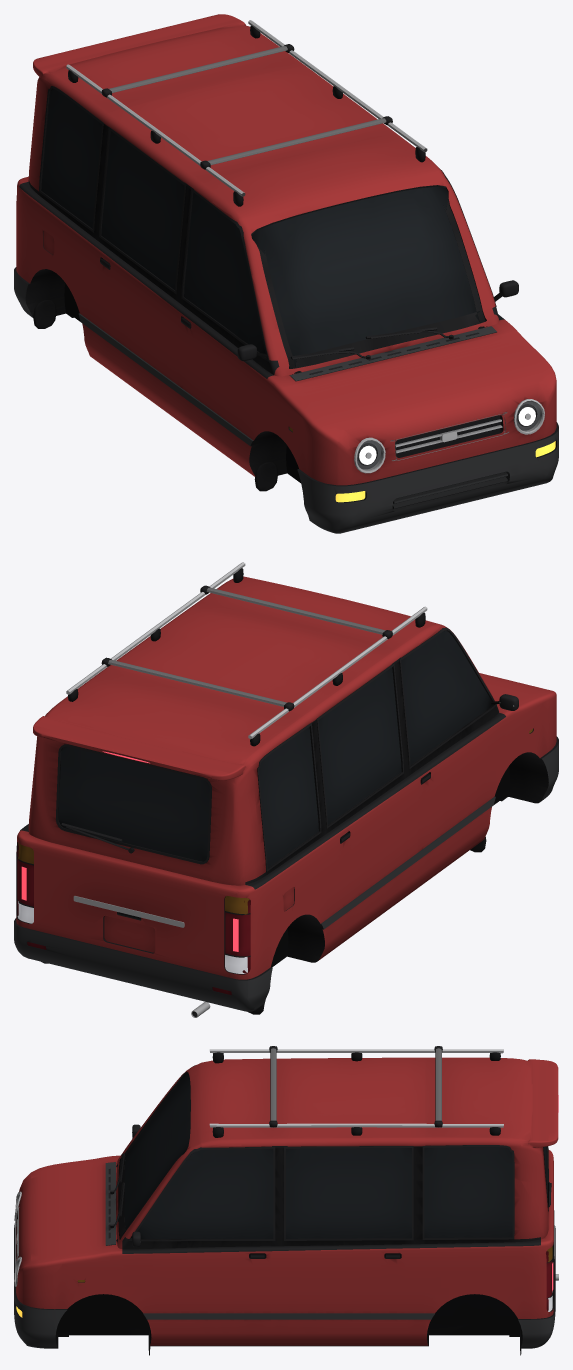
The model's file is mochi.m.glb.
The picture shows the model from 3 angles, top to bottom: view 1: azimuth 30°, elevation 25°; view 2: azimuth 150°, elevation 25°; view 3: azimuth 270°, elevation 25°; orthographic projection. The views are drawn at different scales.
Parts seen in each view (by area): view 1: paint_lodm, window_lodm, trim_lodm, plastic_lodm, chrome_lodm, grille_lodm, head_lodm; view 2: paint_lodm, window_lodm, trim_lodm, plastic_lodm, chrome_lodm, tail_lodm, reverse_lodm, indicator_lodm; view 3: paint_lodm, window_lodm, trim_lodm, plastic_lodm, chrome_lodm.
Part boxes in pixels (left/top/right/bottom): paint_lodm: left=16, top=14, right=556, bottom=485; window_lodm: left=41, top=88, right=485, bottom=368; trim_lodm: left=14, top=25, right=558, bottom=502; plastic_lodm: left=14, top=271, right=558, bottom=533; chrome_lodm: left=66, top=20, right=544, bottom=473; grille_lodm: left=392, top=415, right=506, bottom=509; head_lodm: left=357, top=401, right=540, bottom=469; paint_lodm: left=16, top=576, right=556, bottom=979; window_lodm: left=58, top=631, right=493, bottom=867; trim_lodm: left=14, top=568, right=558, bottom=1016; plastic_lodm: left=14, top=704, right=558, bottom=1011; chrome_lodm: left=66, top=562, right=514, bottom=1017; tail_lodm: left=17, top=843, right=250, bottom=995; reverse_lodm: left=17, top=901, right=247, bottom=973; indicator_lodm: left=18, top=729, right=532, bottom=914; paint_lodm: left=16, top=1057, right=558, bottom=1345; window_lodm: left=122, top=1073, right=547, bottom=1238; trim_lodm: left=14, top=1046, right=555, bottom=1355; plastic_lodm: left=14, top=1162, right=555, bottom=1348; chrome_lodm: left=14, top=1048, right=558, bottom=1286.
Size of what is drawn, in the model's own units: 1.71 by 1.6 by 3.46.
